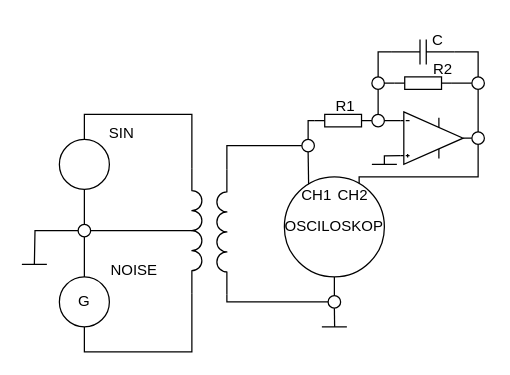
The diagram is 510 pixels wide and 375 high, and some of its shapes have lost their labels. Each missing label, with the centre of its shape:
Gx: [83,163]
OZ: [431,137]
